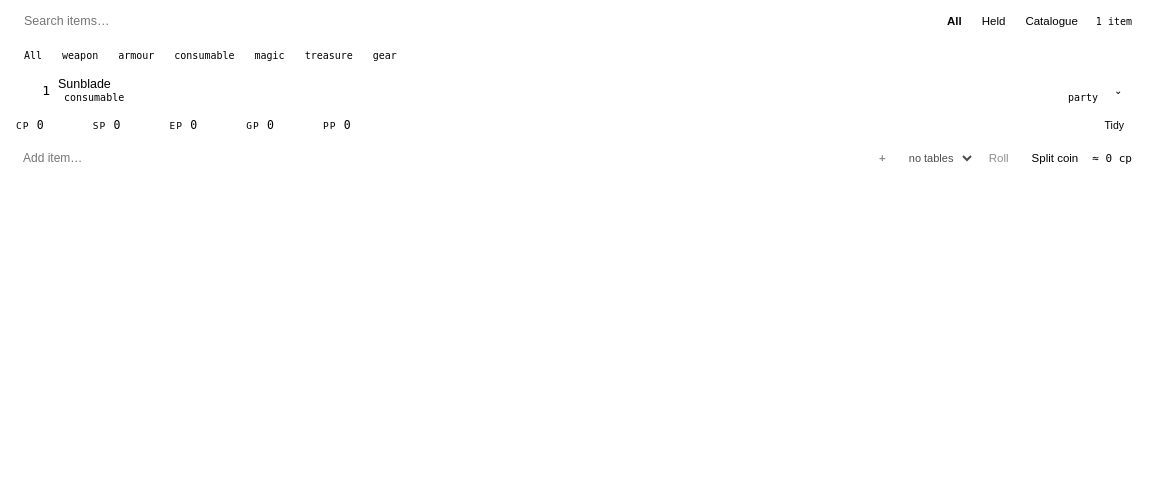
Test: Items weapon and armour detail › offers properties on every kind, weapon or not
Click the text "Sunblade".
click(84, 84)  # box x1=58 y1=77 x2=111 y2=91
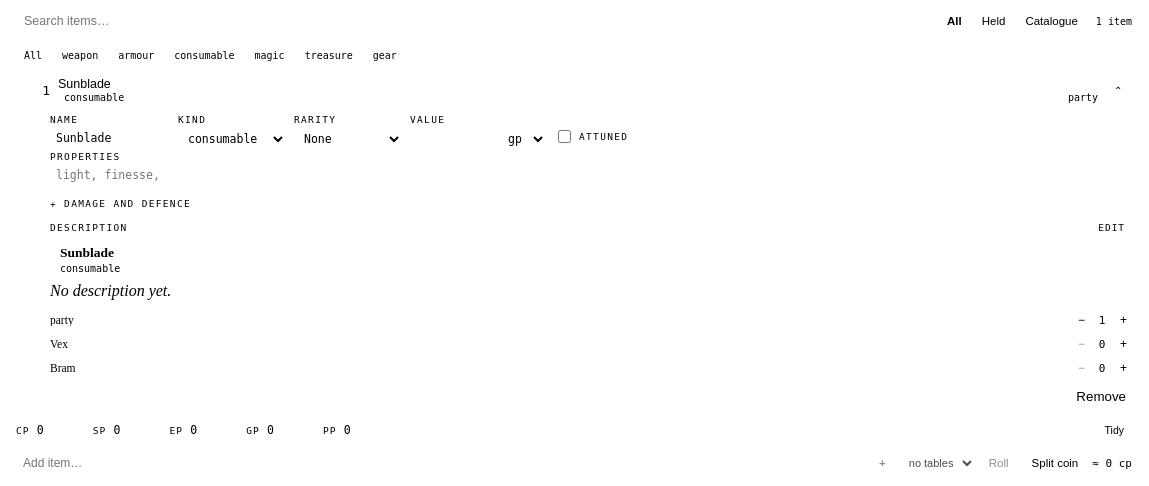
Now the field labelled "Properties" is shown, box x1=50 y1=164 x2=170 y2=186
